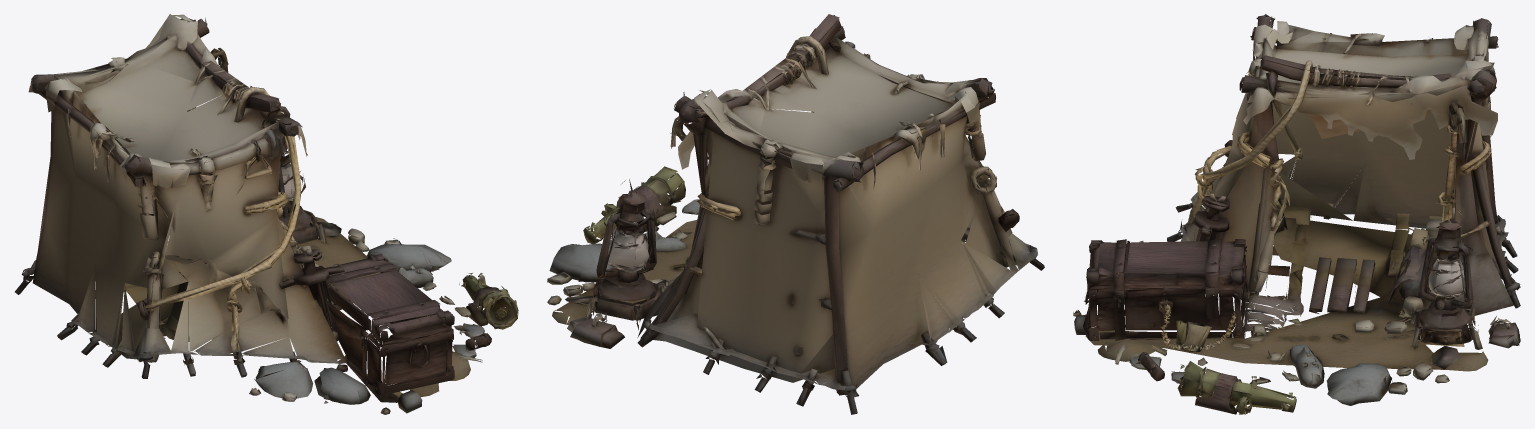
File: ch4_1890s_expedition_relics_LOD1.glb
3 views of the same model, side by side, from view 1: azimuth 30°, elevation 25°; view 2: azimuth 150°, elevation 25°; view 3: azimuth 270°, elevation 25° (orthographic). The views are drawn at different scales.
Parts seen in each view (by area): view 1: tripo_node_3d1a29e7-ccef-40ac-9436-c12024c8dad5; view 2: tripo_node_3d1a29e7-ccef-40ac-9436-c12024c8dad5; view 3: tripo_node_3d1a29e7-ccef-40ac-9436-c12024c8dad5.
Part boxes in pixels (x1,y1,x2,y2): tripo_node_3d1a29e7-ccef-40ac-9436-c12024c8dad5: (15,14,518,414); tripo_node_3d1a29e7-ccef-40ac-9436-c12024c8dad5: (547,14,1044,414); tripo_node_3d1a29e7-ccef-40ac-9436-c12024c8dad5: (1073,14,1520,414).
Size of the model in its own units: 0.9989 by 0.6337 by 0.998.
1 material, 1 textured.
